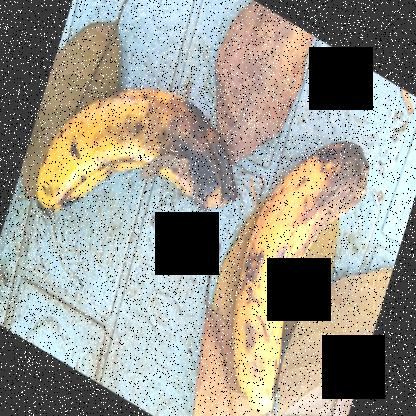overripe: (226, 203, 306, 415), (23, 91, 144, 228)
rotten: (273, 107, 377, 285), (120, 74, 235, 222)
